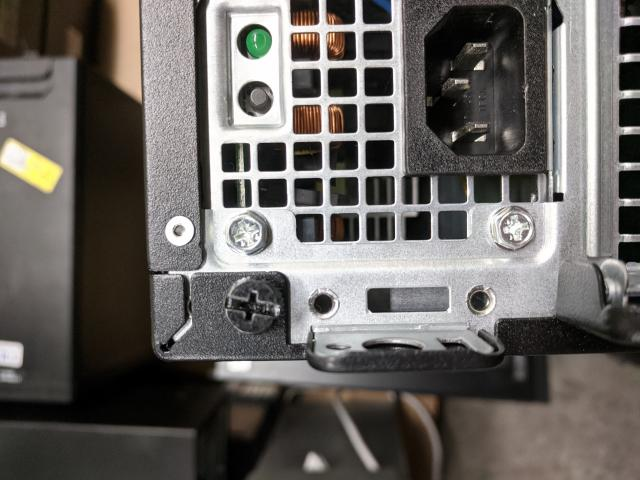CRS: (223, 277, 284, 337), (491, 207, 536, 251), (228, 212, 270, 256)
